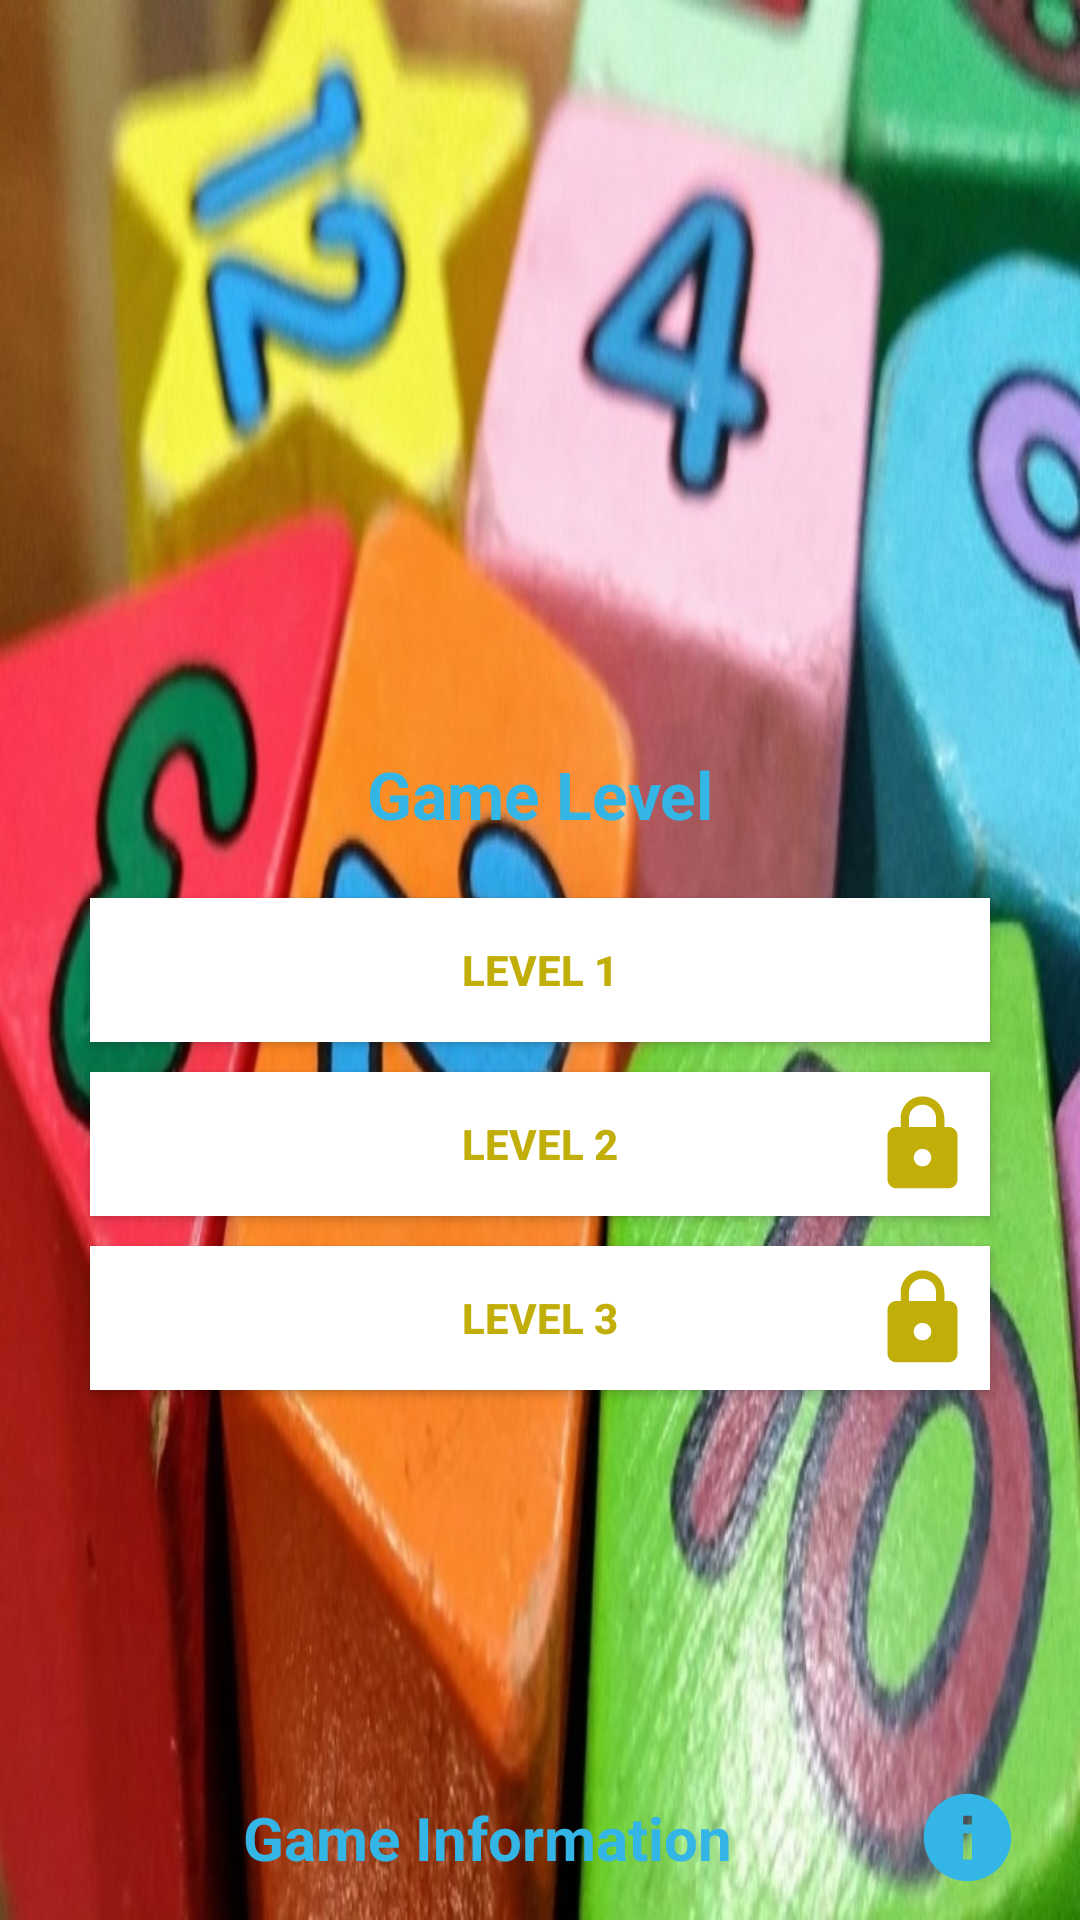

Icons on this 1080*1920 Android screen, each with the point to tap as point (x, y):
lock: point (922, 1142), point (922, 1316)
